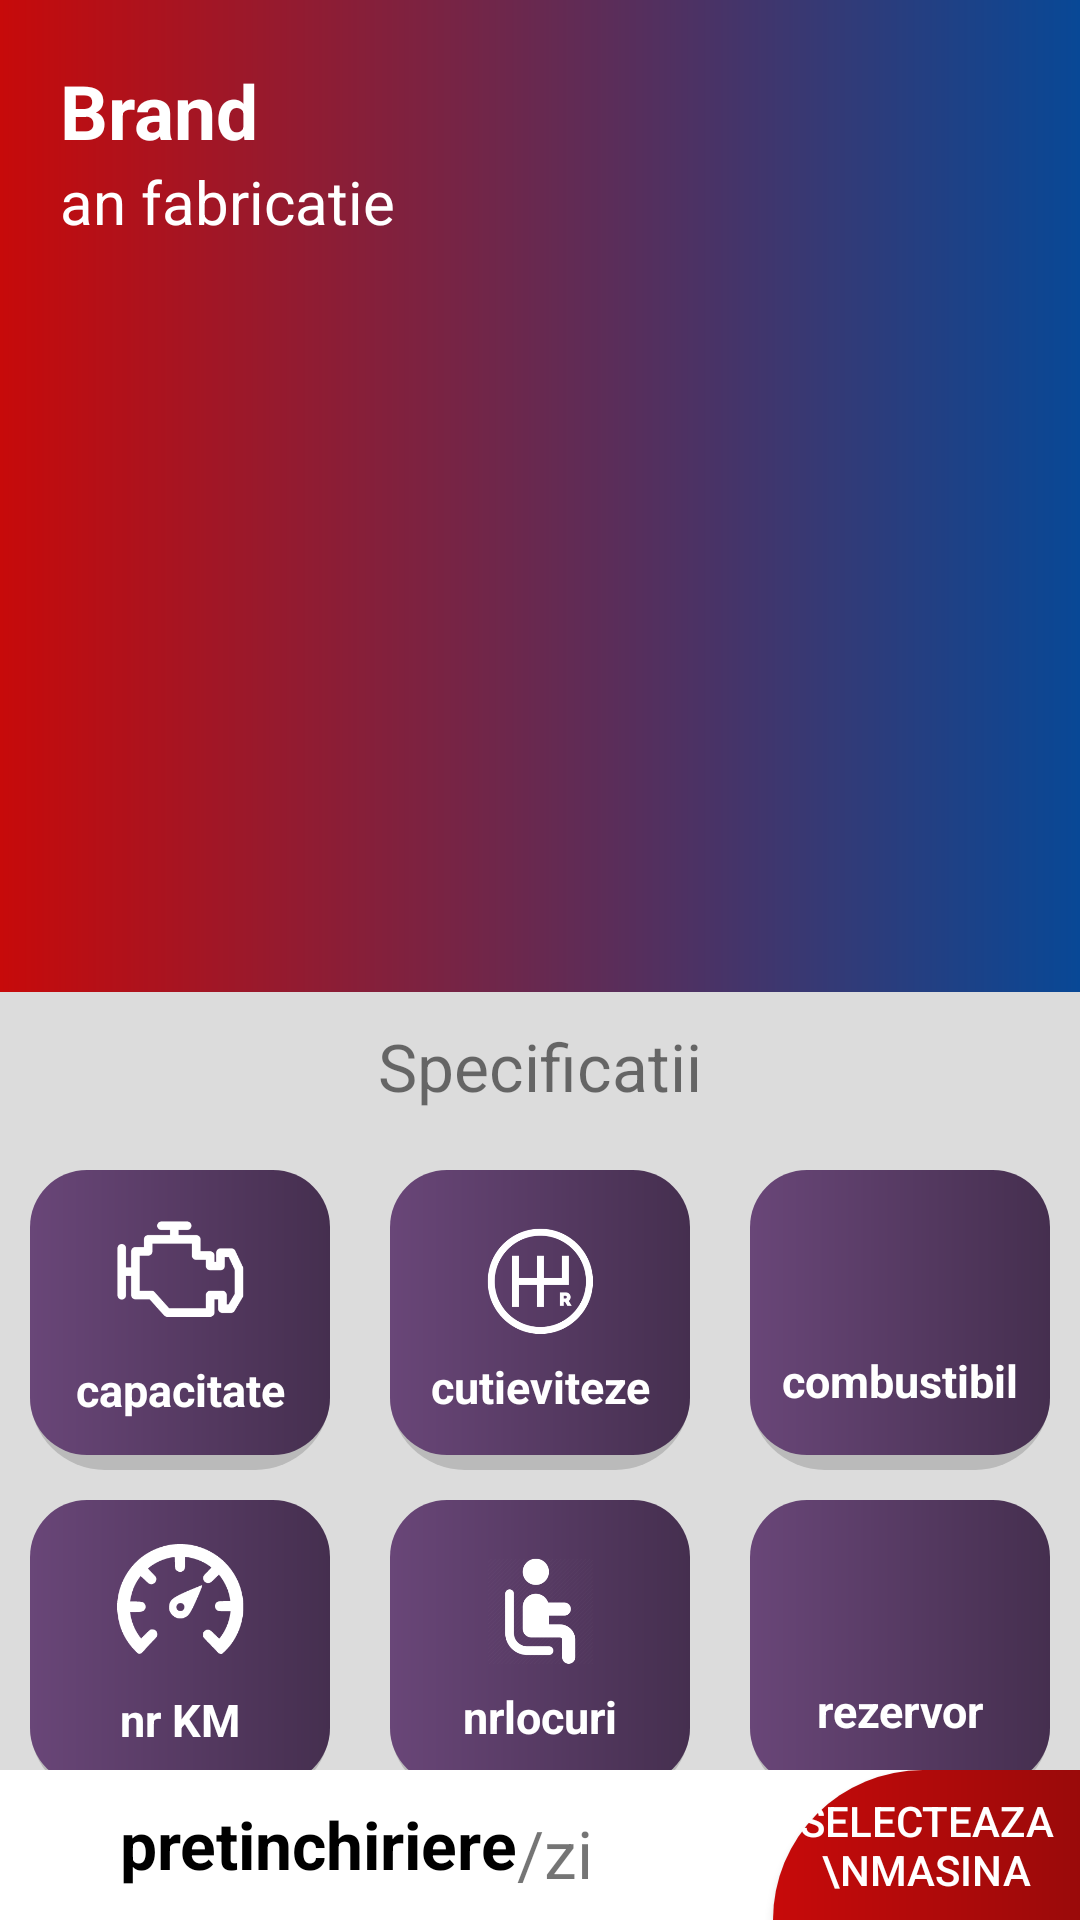

Screen size 1080×1920. Icon name, then its center in pixels as point (x, y):
engine: point (180, 1269)
seat: point (540, 1611)
